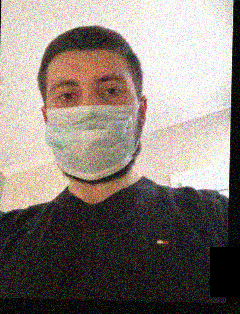with_mask: (44, 68, 142, 187)
